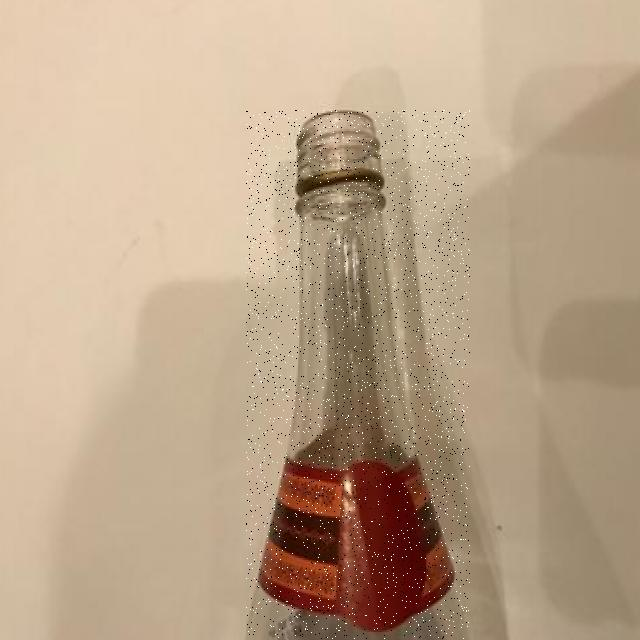glass: (247, 111, 470, 639)
